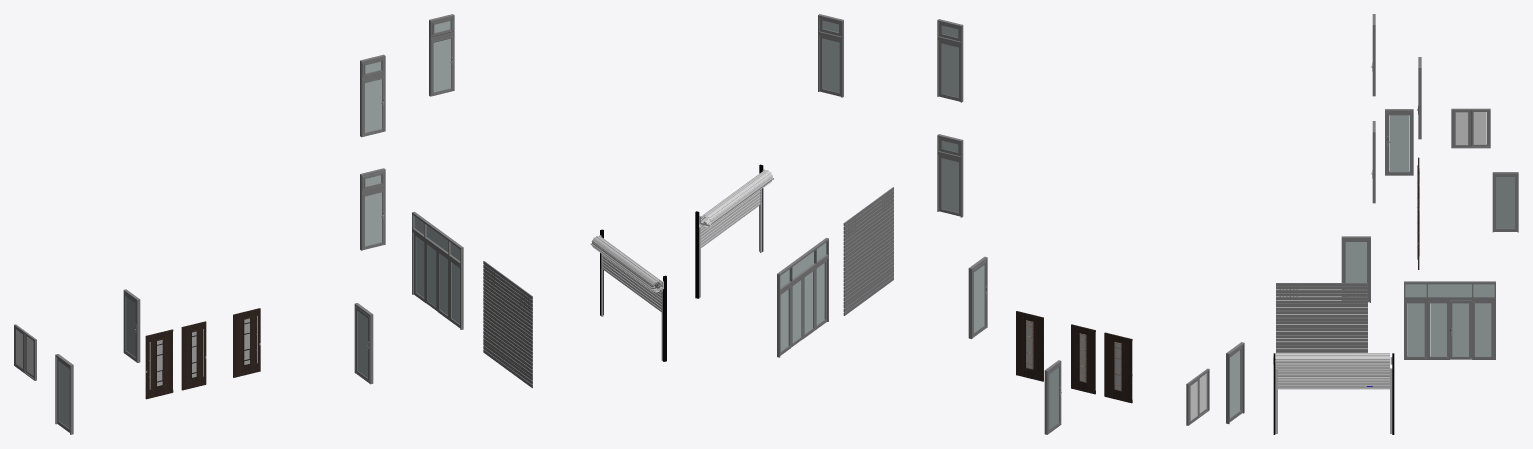
Rendered from cua.gltf.
The picture shows the model from 3 angles, left to right: view 1: azimuth 30°, elevation 25°; view 2: azimuth 150°, elevation 25°; view 3: azimuth 270°, elevation 25°; orthographic projection. The views are drawn at different scales.
Parts seen in each view (by area): view 1: cua; view 2: cua; view 3: cua.
Part boxes in pixels (box(x1,y1,x2,y2)): cua: box(14, 14, 666, 434); cua: box(695, 14, 1244, 434); cua: box(1273, 14, 1518, 434).
Size of the model in its own units: 17.86 by 10.25 by 7.49.
22 materials, 2 textured.
